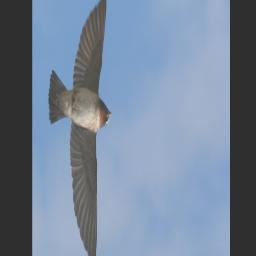Swallow: (42, 0, 122, 256)
